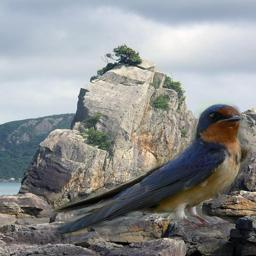Swallow: (17, 101, 253, 237)
